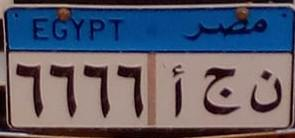6: (13, 62, 46, 122), (48, 64, 78, 121), (82, 66, 113, 120), (116, 64, 145, 118)
أ: (165, 62, 189, 119)
ج: (198, 65, 244, 118)
ن: (248, 66, 285, 117)
